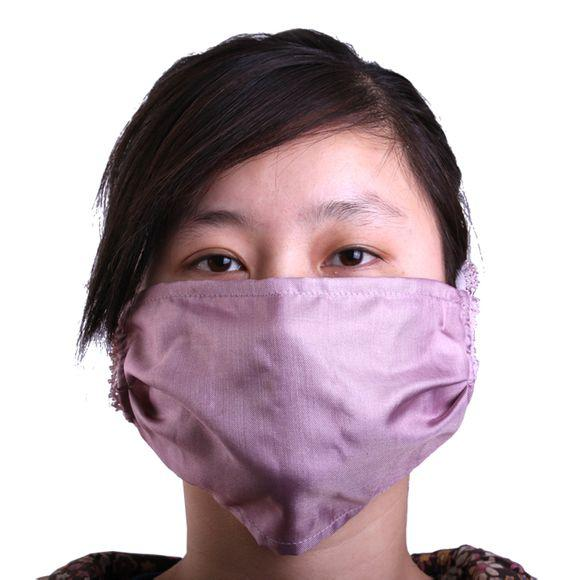OK: (126, 186, 441, 501)
